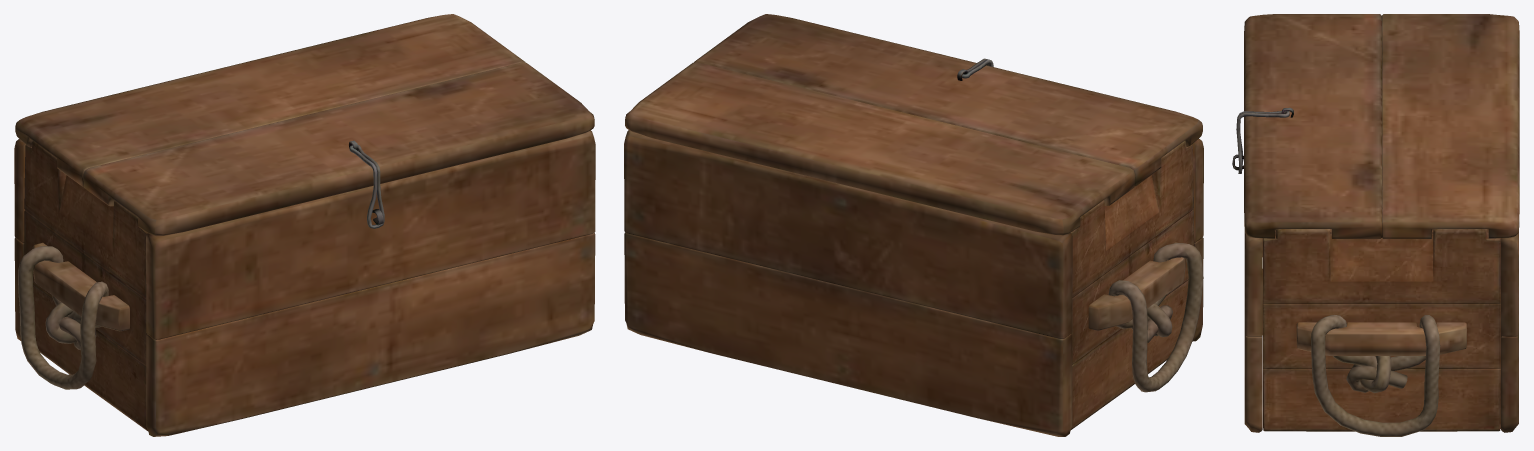
Rendered from cajon.glb.
3 renders of one model, left to right at view 1: azimuth 30°, elevation 25°; view 2: azimuth 150°, elevation 25°; view 3: azimuth 270°, elevation 25°, orthographic. The views are drawn at different scales.
Parts seen in each view (by area): view 1: wooden_crate_01_lid; view 2: wooden_crate_01_lid; view 3: wooden_crate_01_lid.
Part boxes in pixels (x1,y1,x2,y2): wooden_crate_01_lid: (14, 14, 595, 436); wooden_crate_01_lid: (624, 14, 1203, 436); wooden_crate_01_lid: (1232, 14, 1519, 436).
Bounding box in the file's own units: 0.8253 × 0.3495 × 0.4089.
Materials: 1 (1 with a texture image).
